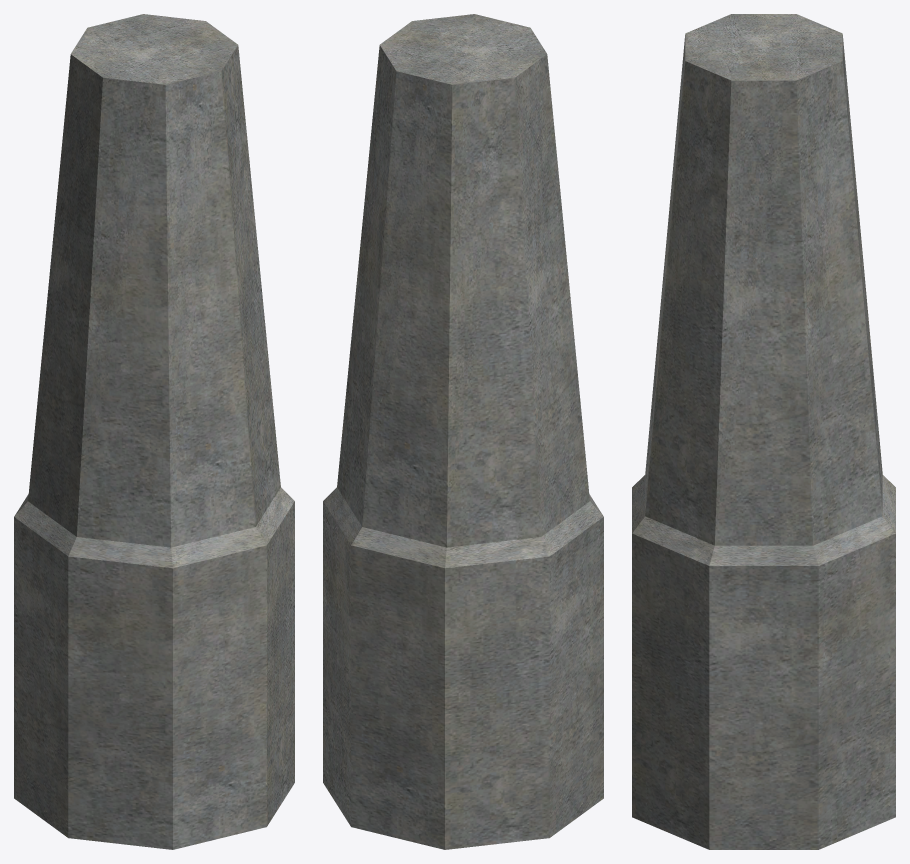
File: mun_all_military_column_weak_impl_s01_l0.fbx
3 views of the same model, side by side, from view 1: azimuth 30°, elevation 25°; view 2: azimuth 150°, elevation 25°; view 3: azimuth 270°, elevation 25° (orthographic).
Parts seen in each view (by area): view 1: mesh_node; view 2: mesh_node; view 3: mesh_node.
Boxes of the visible parts, x1=… form: mesh_node: x1=14, y1=14, x2=294, y2=849; mesh_node: x1=323, y1=14, x2=603, y2=849; mesh_node: x1=632, y1=14, x2=895, y2=849.
Bounding box in the file's own units: 2 × 6.25 × 2.
